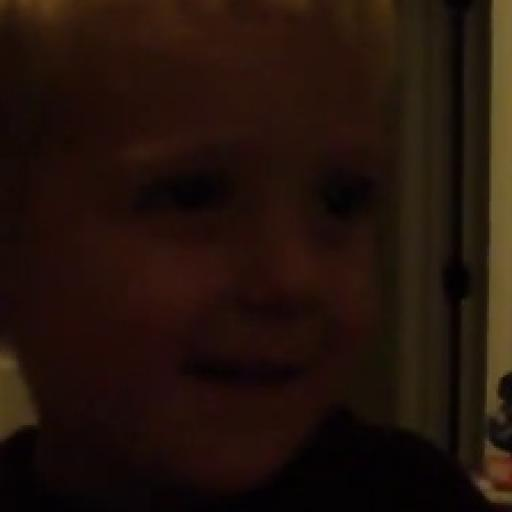Autism: (48, 32, 462, 512)
